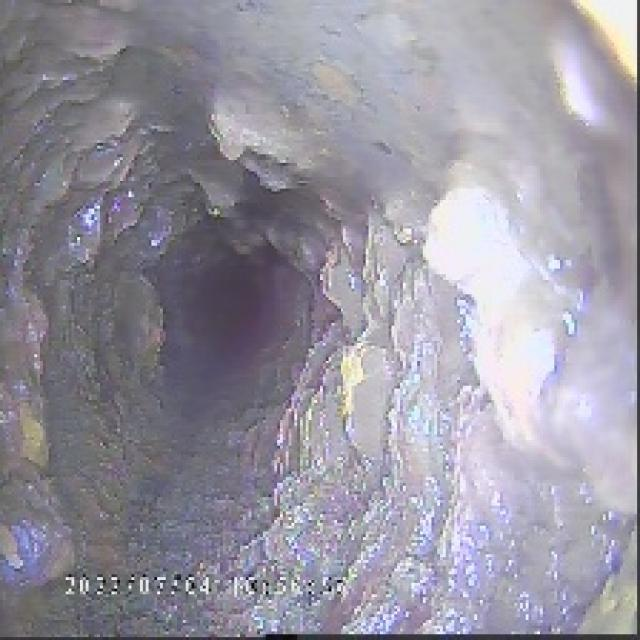encrustation: (263, 91, 580, 546)
